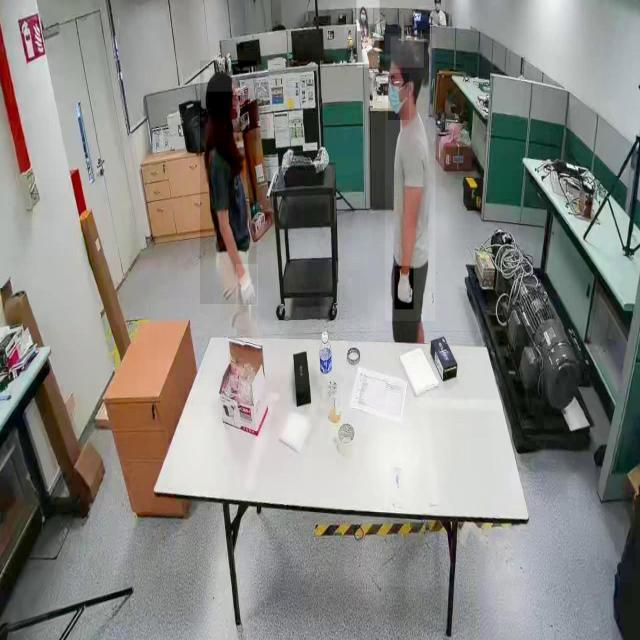face_mask: (388, 73, 409, 120), (227, 95, 248, 133), (359, 9, 368, 28), (435, 1, 443, 15)
hand_glove: (236, 264, 258, 307), (394, 266, 414, 310)
head_nohelmet: (390, 36, 424, 68), (204, 70, 234, 92)
person: (385, 34, 436, 322), (200, 60, 257, 305), (356, 0, 379, 68)
